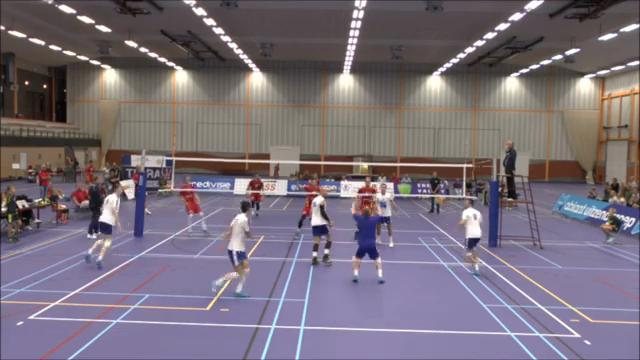ricezione: (346, 196, 390, 287)
